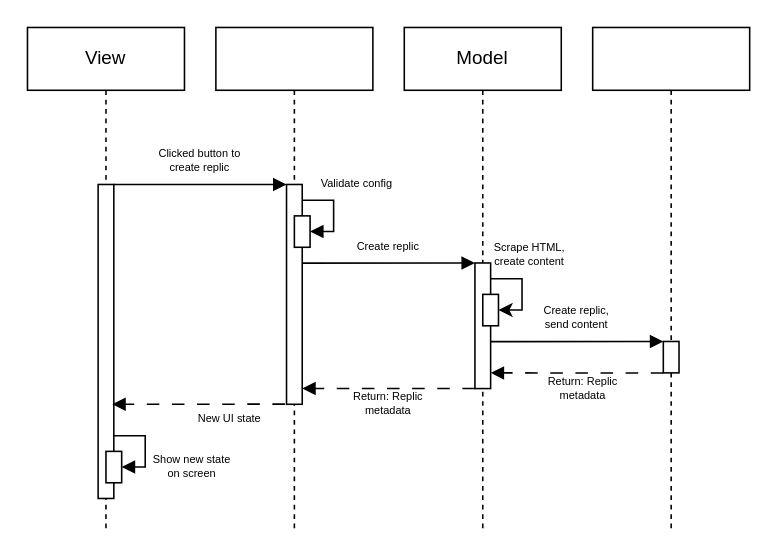
Some shapes in this 777 by 557 pixel diagram are drawn without their labels. Here are the shapes that lost their labels. From the top down, the box of each, then its label:
(214, 26, 373, 530): ViewModel
(591, 26, 750, 530): Server
